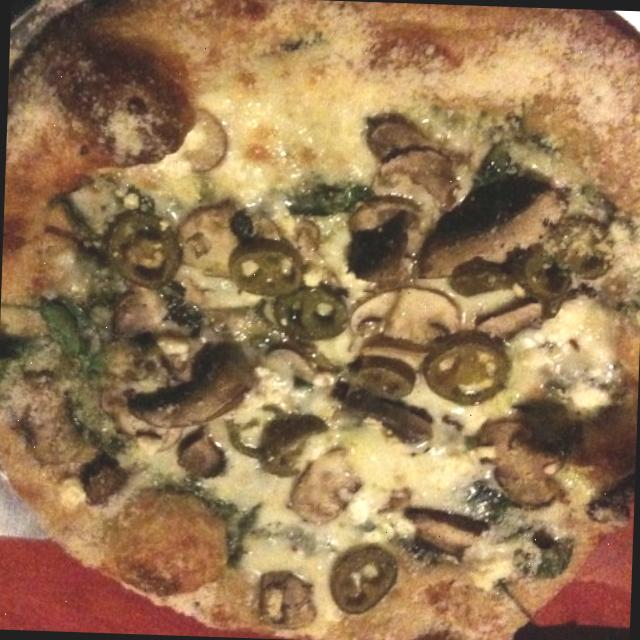mushrooms: (114, 334, 265, 436), (362, 106, 470, 212), (473, 402, 569, 518), (336, 281, 466, 360), (282, 438, 368, 534), (177, 98, 236, 177)
pizza: (0, 0, 640, 640)
